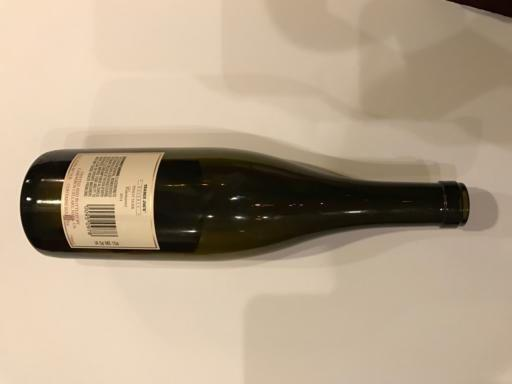botolkaca: (20, 147, 470, 260)
